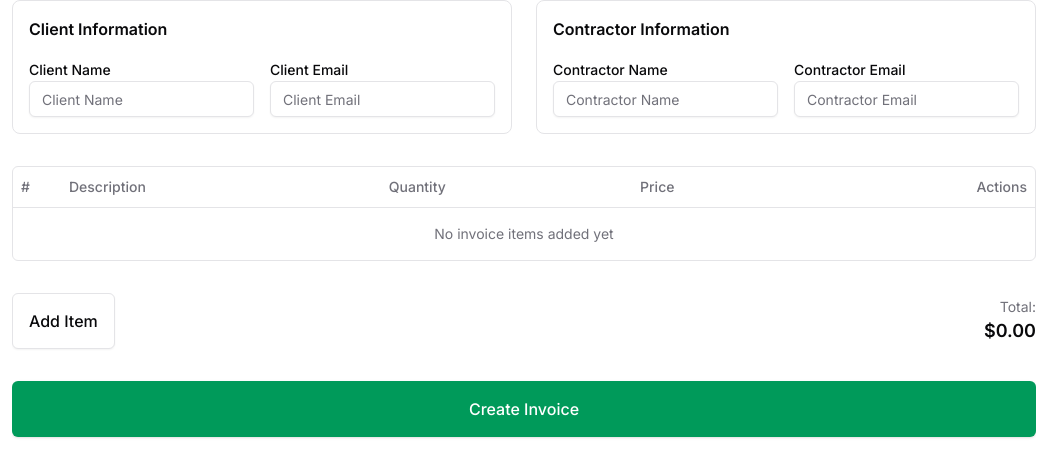
InvoiceForm Component › adds an item when the Add Item button is clicked
Expected: the text "No invoice items added yet" is shown, 13,207 -> 1035,260
Note: Click add item
Click the button "Add Item" at (63, 320), box 12,292 -> 115,348
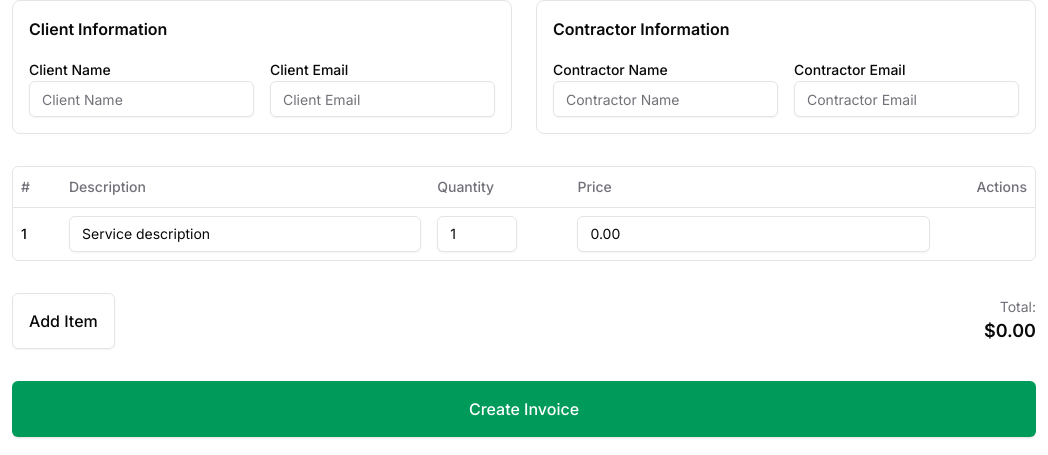
Result: the field with placeholder "Service description" is shown at 69,216 -> 421,252
